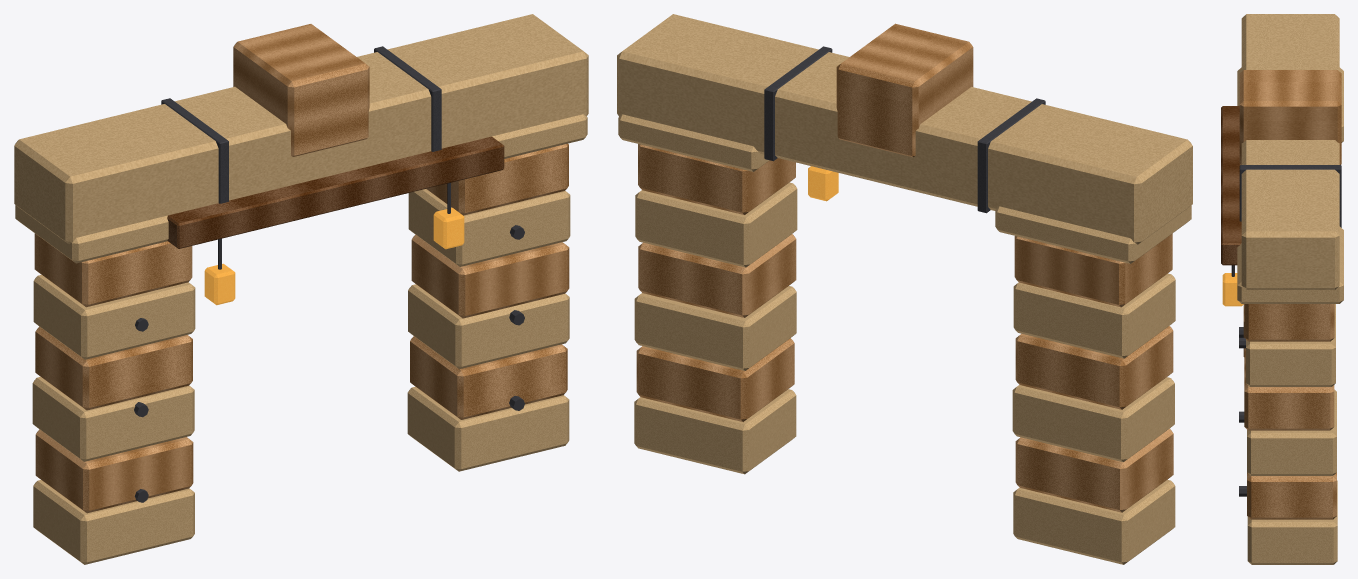
File: quarry_gateway.glb
The picture shows the model from 3 angles, left to right: view 1: azimuth 30°, elevation 25°; view 2: azimuth 150°, elevation 25°; view 3: azimuth 270°, elevation 25°; orthographic projection. The views are drawn at different scales.
Parts seen in each view (by area): view 1: quarry_gateway_CutStone, quarry_gateway_Sandstone, quarry_gateway_Timber, quarry_gateway_Iron, quarry_gateway_Lantern; view 2: quarry_gateway_CutStone, quarry_gateway_Sandstone, quarry_gateway_Iron, quarry_gateway_Lantern; view 3: quarry_gateway_CutStone, quarry_gateway_Sandstone, quarry_gateway_Timber, quarry_gateway_Iron, quarry_gateway_Lantern.
Part boxes in pixels (bbox=[...]): quarry_gateway_CutStone: bbox=[14, 14, 588, 564]; quarry_gateway_Sandstone: bbox=[34, 24, 569, 513]; quarry_gateway_Timber: bbox=[167, 136, 504, 248]; quarry_gateway_Iron: bbox=[134, 46, 524, 502]; quarry_gateway_Lantern: bbox=[204, 207, 464, 305]; quarry_gateway_CutStone: bbox=[617, 14, 1192, 564]; quarry_gateway_Sandstone: bbox=[636, 23, 1173, 512]; quarry_gateway_Iron: bbox=[764, 46, 1045, 213]; quarry_gateway_Lantern: bbox=[808, 166, 838, 201]; quarry_gateway_CutStone: bbox=[1237, 14, 1343, 564]; quarry_gateway_Sandstone: bbox=[1239, 70, 1341, 519]; quarry_gateway_Timber: bbox=[1221, 106, 1241, 265]; quarry_gateway_Iron: bbox=[1231, 165, 1341, 496]; quarry_gateway_Lantern: bbox=[1222, 273, 1243, 306].
Size of the model in its own units: 6.4 by 5.09 by 1.5.
5 materials, 5 textured.
